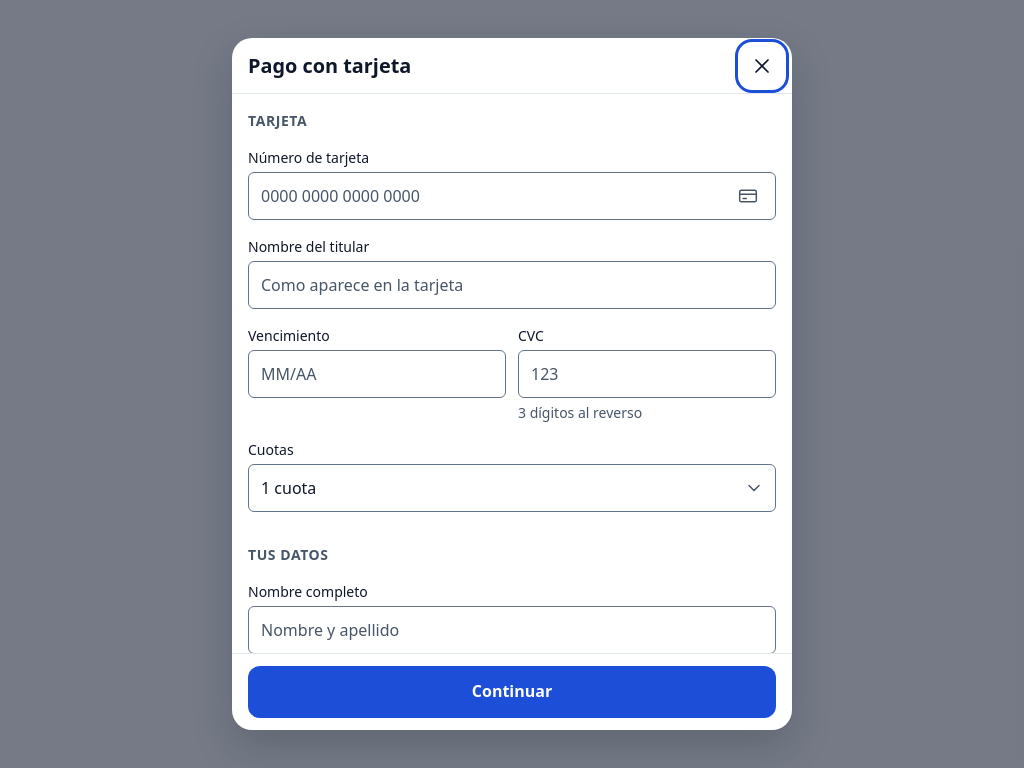
Test case: CheckoutModal › formats the card number as it is typed and shows the detected brand
Expected: the picture named "Marca de la tarjeta no reconocida" is shown, [738,186,758,206]
Type "4242424242424242" into the field labelled "Número de tarjeta" at {"x": 512, "y": 196}, box [248,172,776,220]
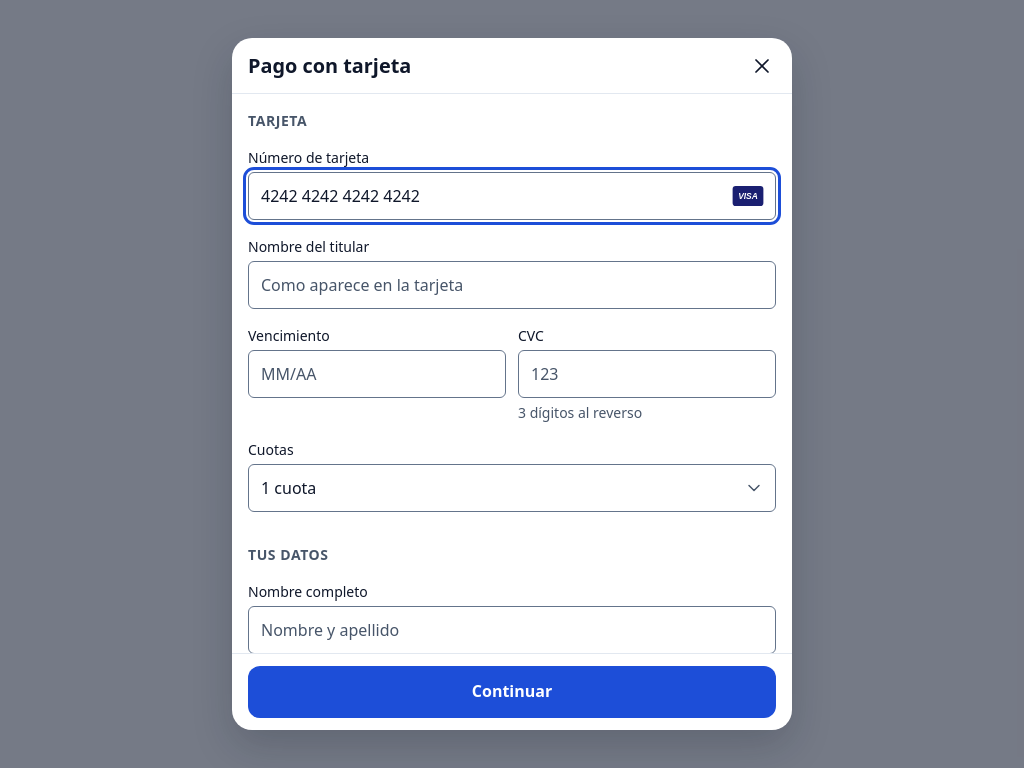
Now the field labelled "Número de tarjeta" holds "4242 4242 4242 4242"
Now the picture "VISA" is shown, box [732,186,764,206]
Replace the text in the field labelled "Número de tarjeta" with "5555" at {"x": 512, "y": 196}, box [248,172,776,220]
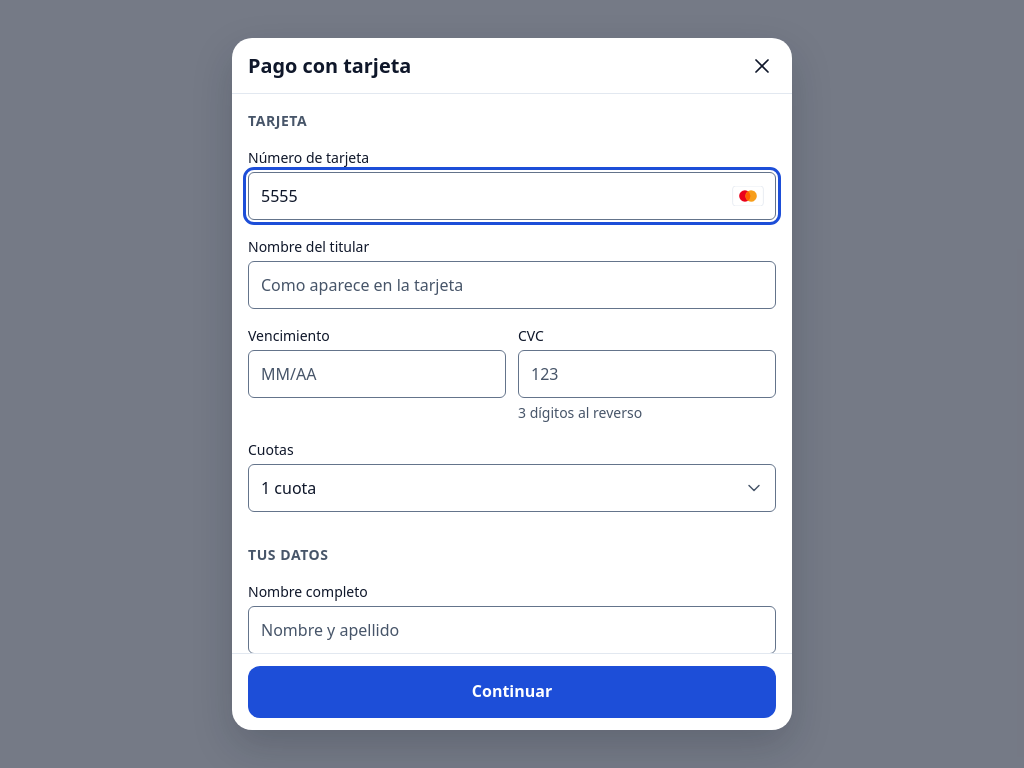
Now the picture named "Mastercard" is shown, box [732,186,764,206]
